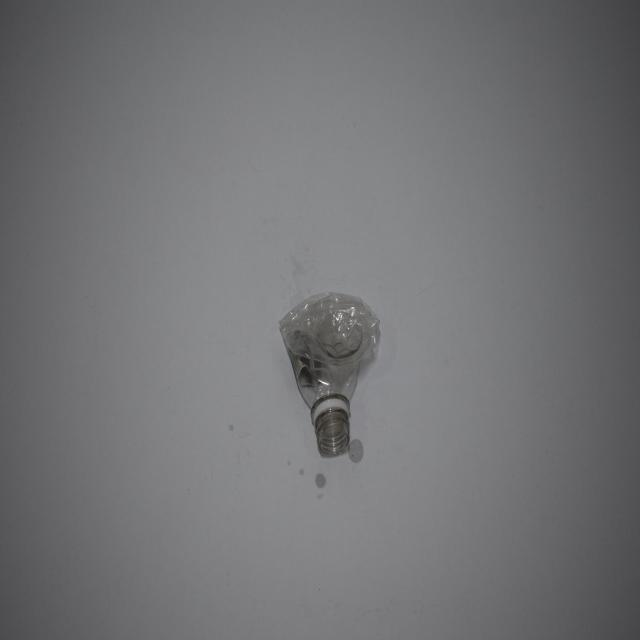bottle: (270, 278, 389, 472)
